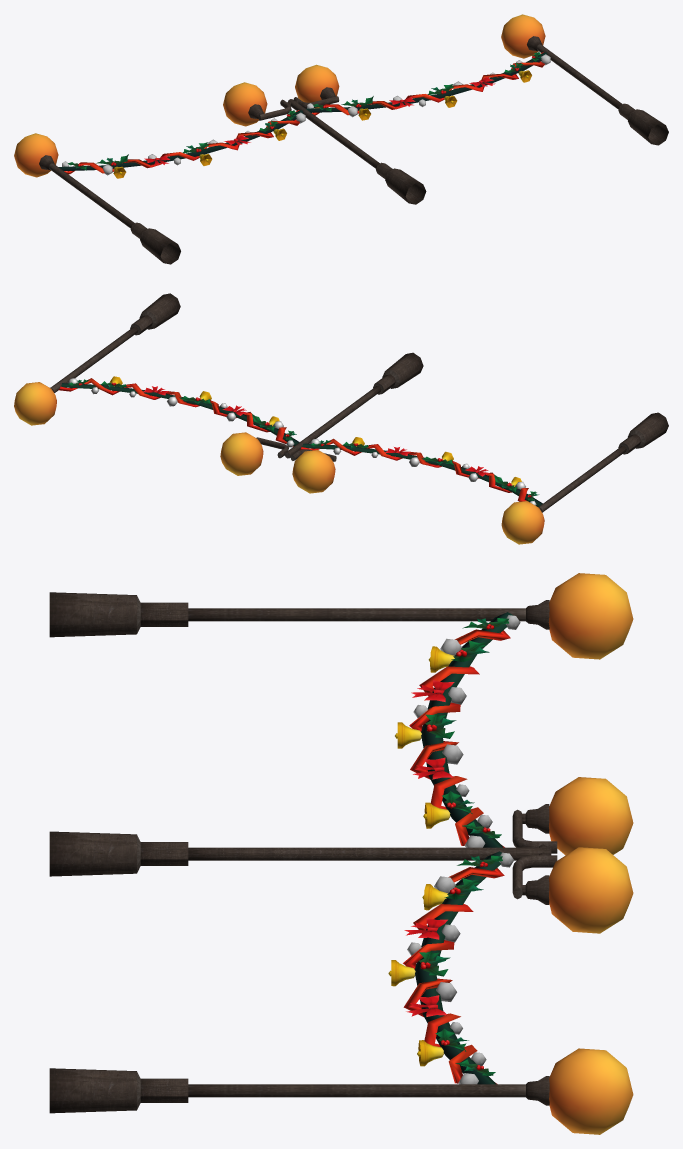
Rendered from StreetLight_Garland_A.fbx.
The picture shows the model from 3 angles, top to bottom: view 1: azimuth 30°, elevation 25°; view 2: azimuth 150°, elevation 25°; view 3: azimuth 270°, elevation 25°; orthographic projection. The views are drawn at different scales.
Parts seen in each view (by area): view 1: StreetLight_Garland_A; view 2: StreetLight_Garland_A; view 3: StreetLight_Garland_A.
Part boxes in pixels (x1=…): StreetLight_Garland_A: x1=14, y1=14, x2=668, y2=264; StreetLight_Garland_A: x1=14, y1=293, x2=668, y2=544; StreetLight_Garland_A: x1=49, y1=573, x2=633, y2=1134.
Size of the model in its own units: 1.57 by 0.1154 by 0.7551.
